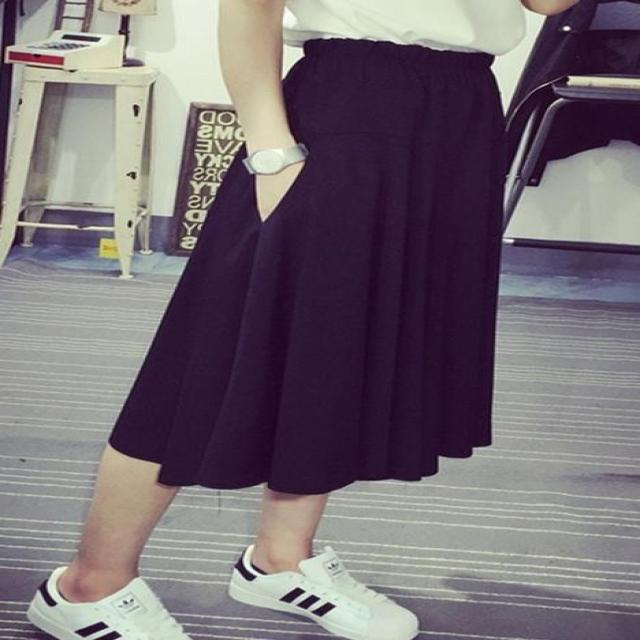short sleeve top: (283, 1, 520, 53)
trousers: (101, 42, 501, 482)
